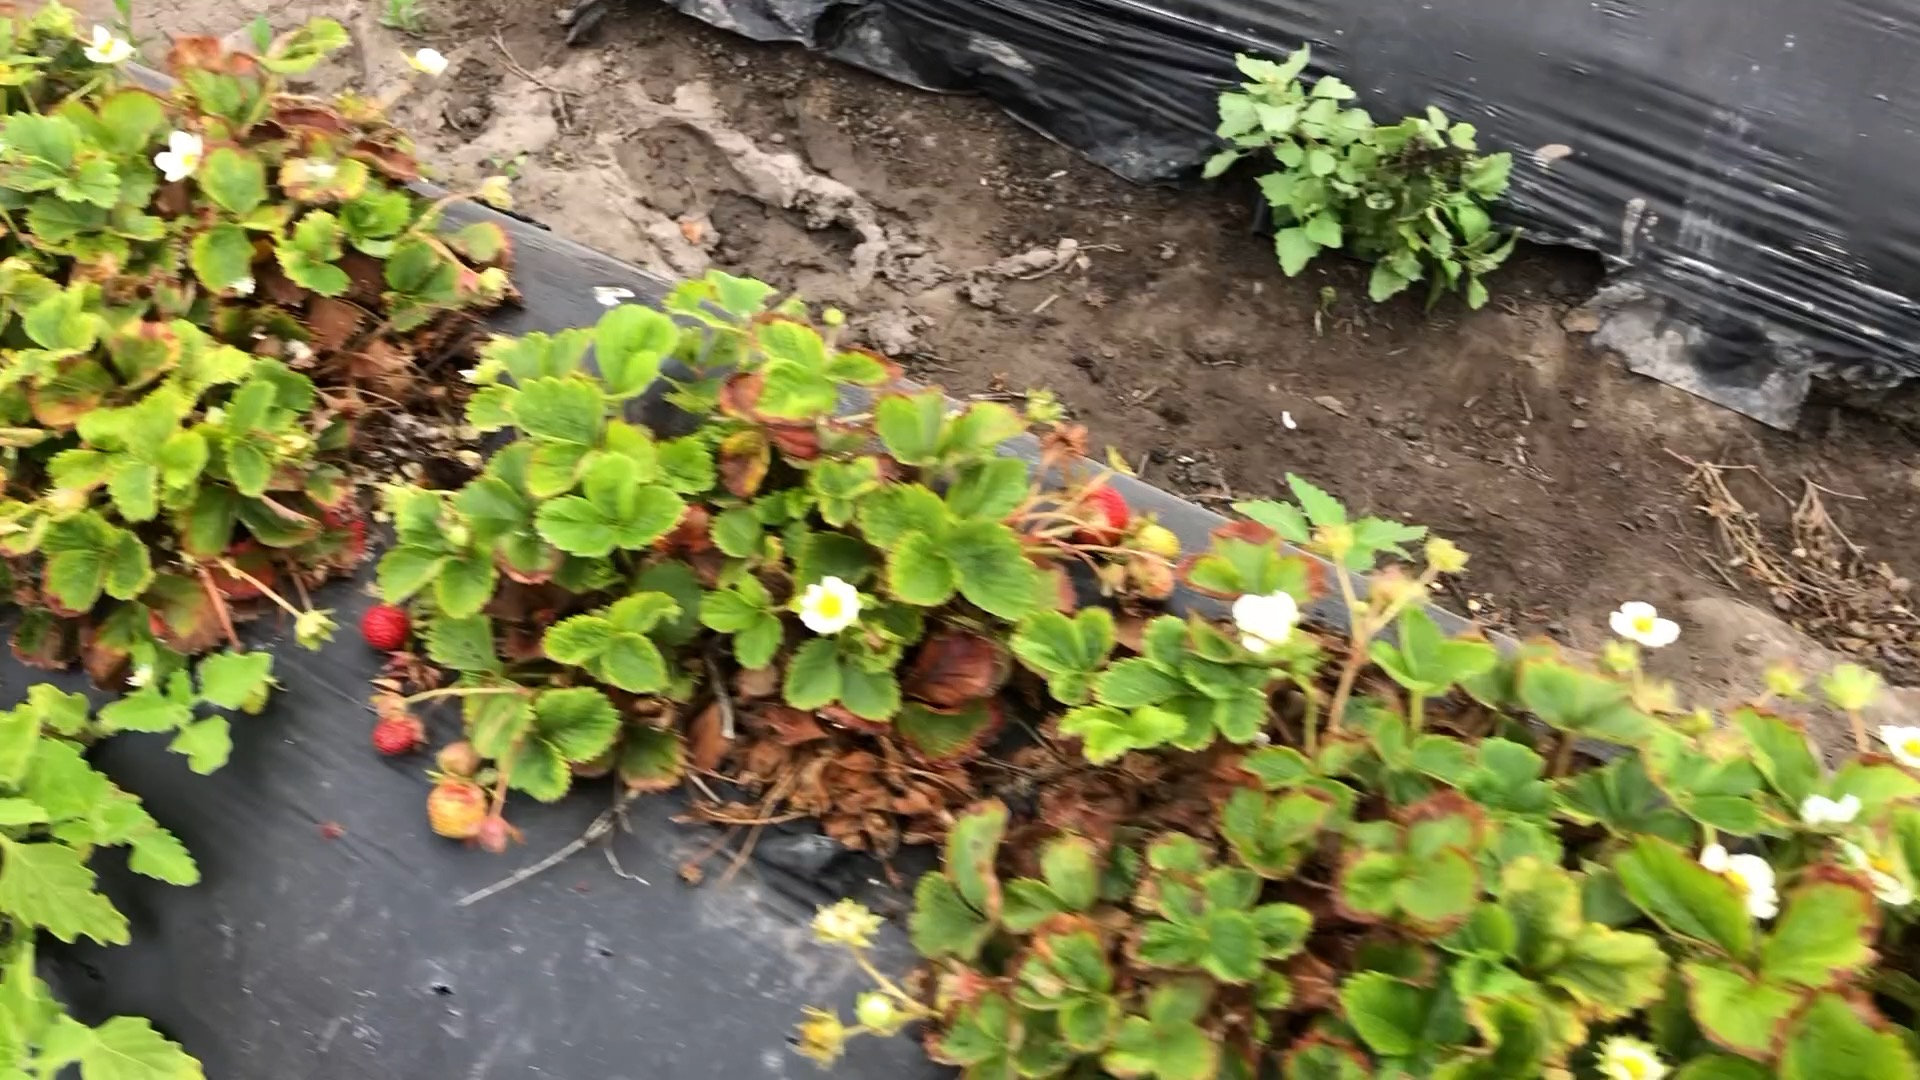ripe_strawberry: (1067, 480, 1131, 549), (372, 709, 430, 760), (360, 603, 414, 653)
unripe_strawberry: (426, 773, 492, 841), (1130, 524, 1182, 559)
